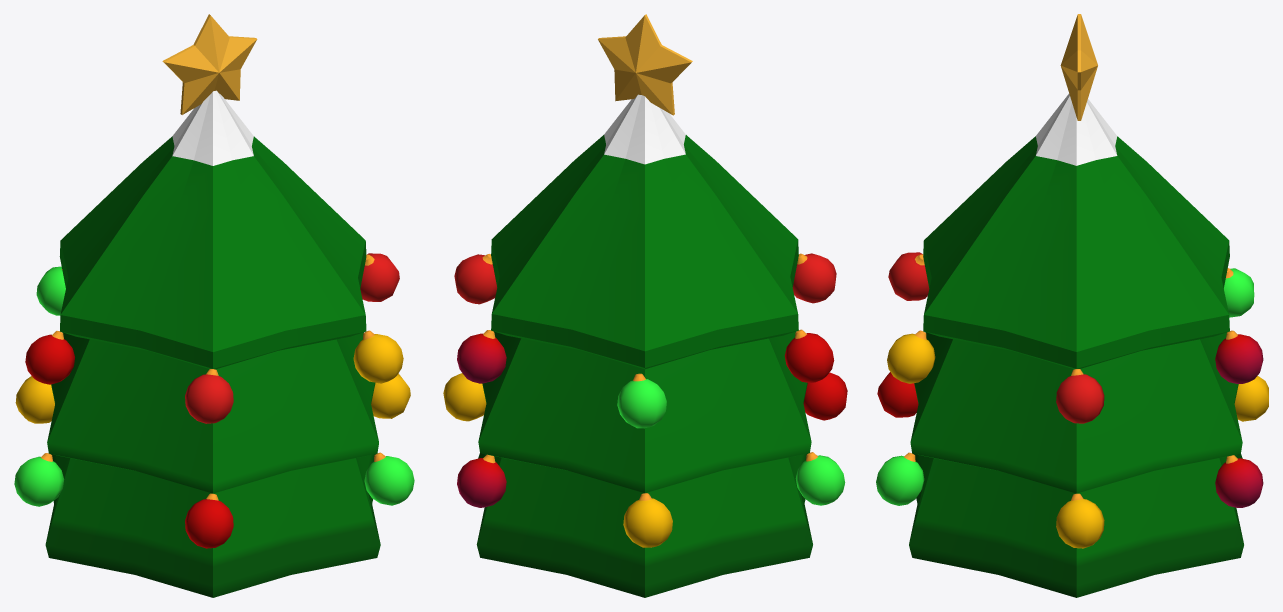
The model's file is Tree_ornament.fbx.
The picture shows the model from 3 angles, left to right: view 1: azimuth 30°, elevation 25°; view 2: azimuth 150°, elevation 25°; view 3: azimuth 270°, elevation 25°; orthographic projection.
Visible parts, largest first — view 1: Tree_ornament; view 2: Tree_ornament; view 3: Tree_ornament.
Boxes of the visible parts, x1,y1,x2,y2 form: Tree_ornament: (14, 14, 414, 597); Tree_ornament: (443, 14, 847, 597); Tree_ornament: (876, 14, 1268, 597).
Bounding box in the file's own units: 190 × 236 × 165.
